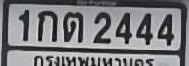1: (18, 9, 28, 40)
2: (93, 11, 110, 42)
4: (135, 12, 152, 44), (157, 13, 173, 45), (115, 11, 131, 43)
A01: (37, 10, 57, 41)
A21: (63, 11, 82, 41)
BKK: (32, 53, 156, 66)
